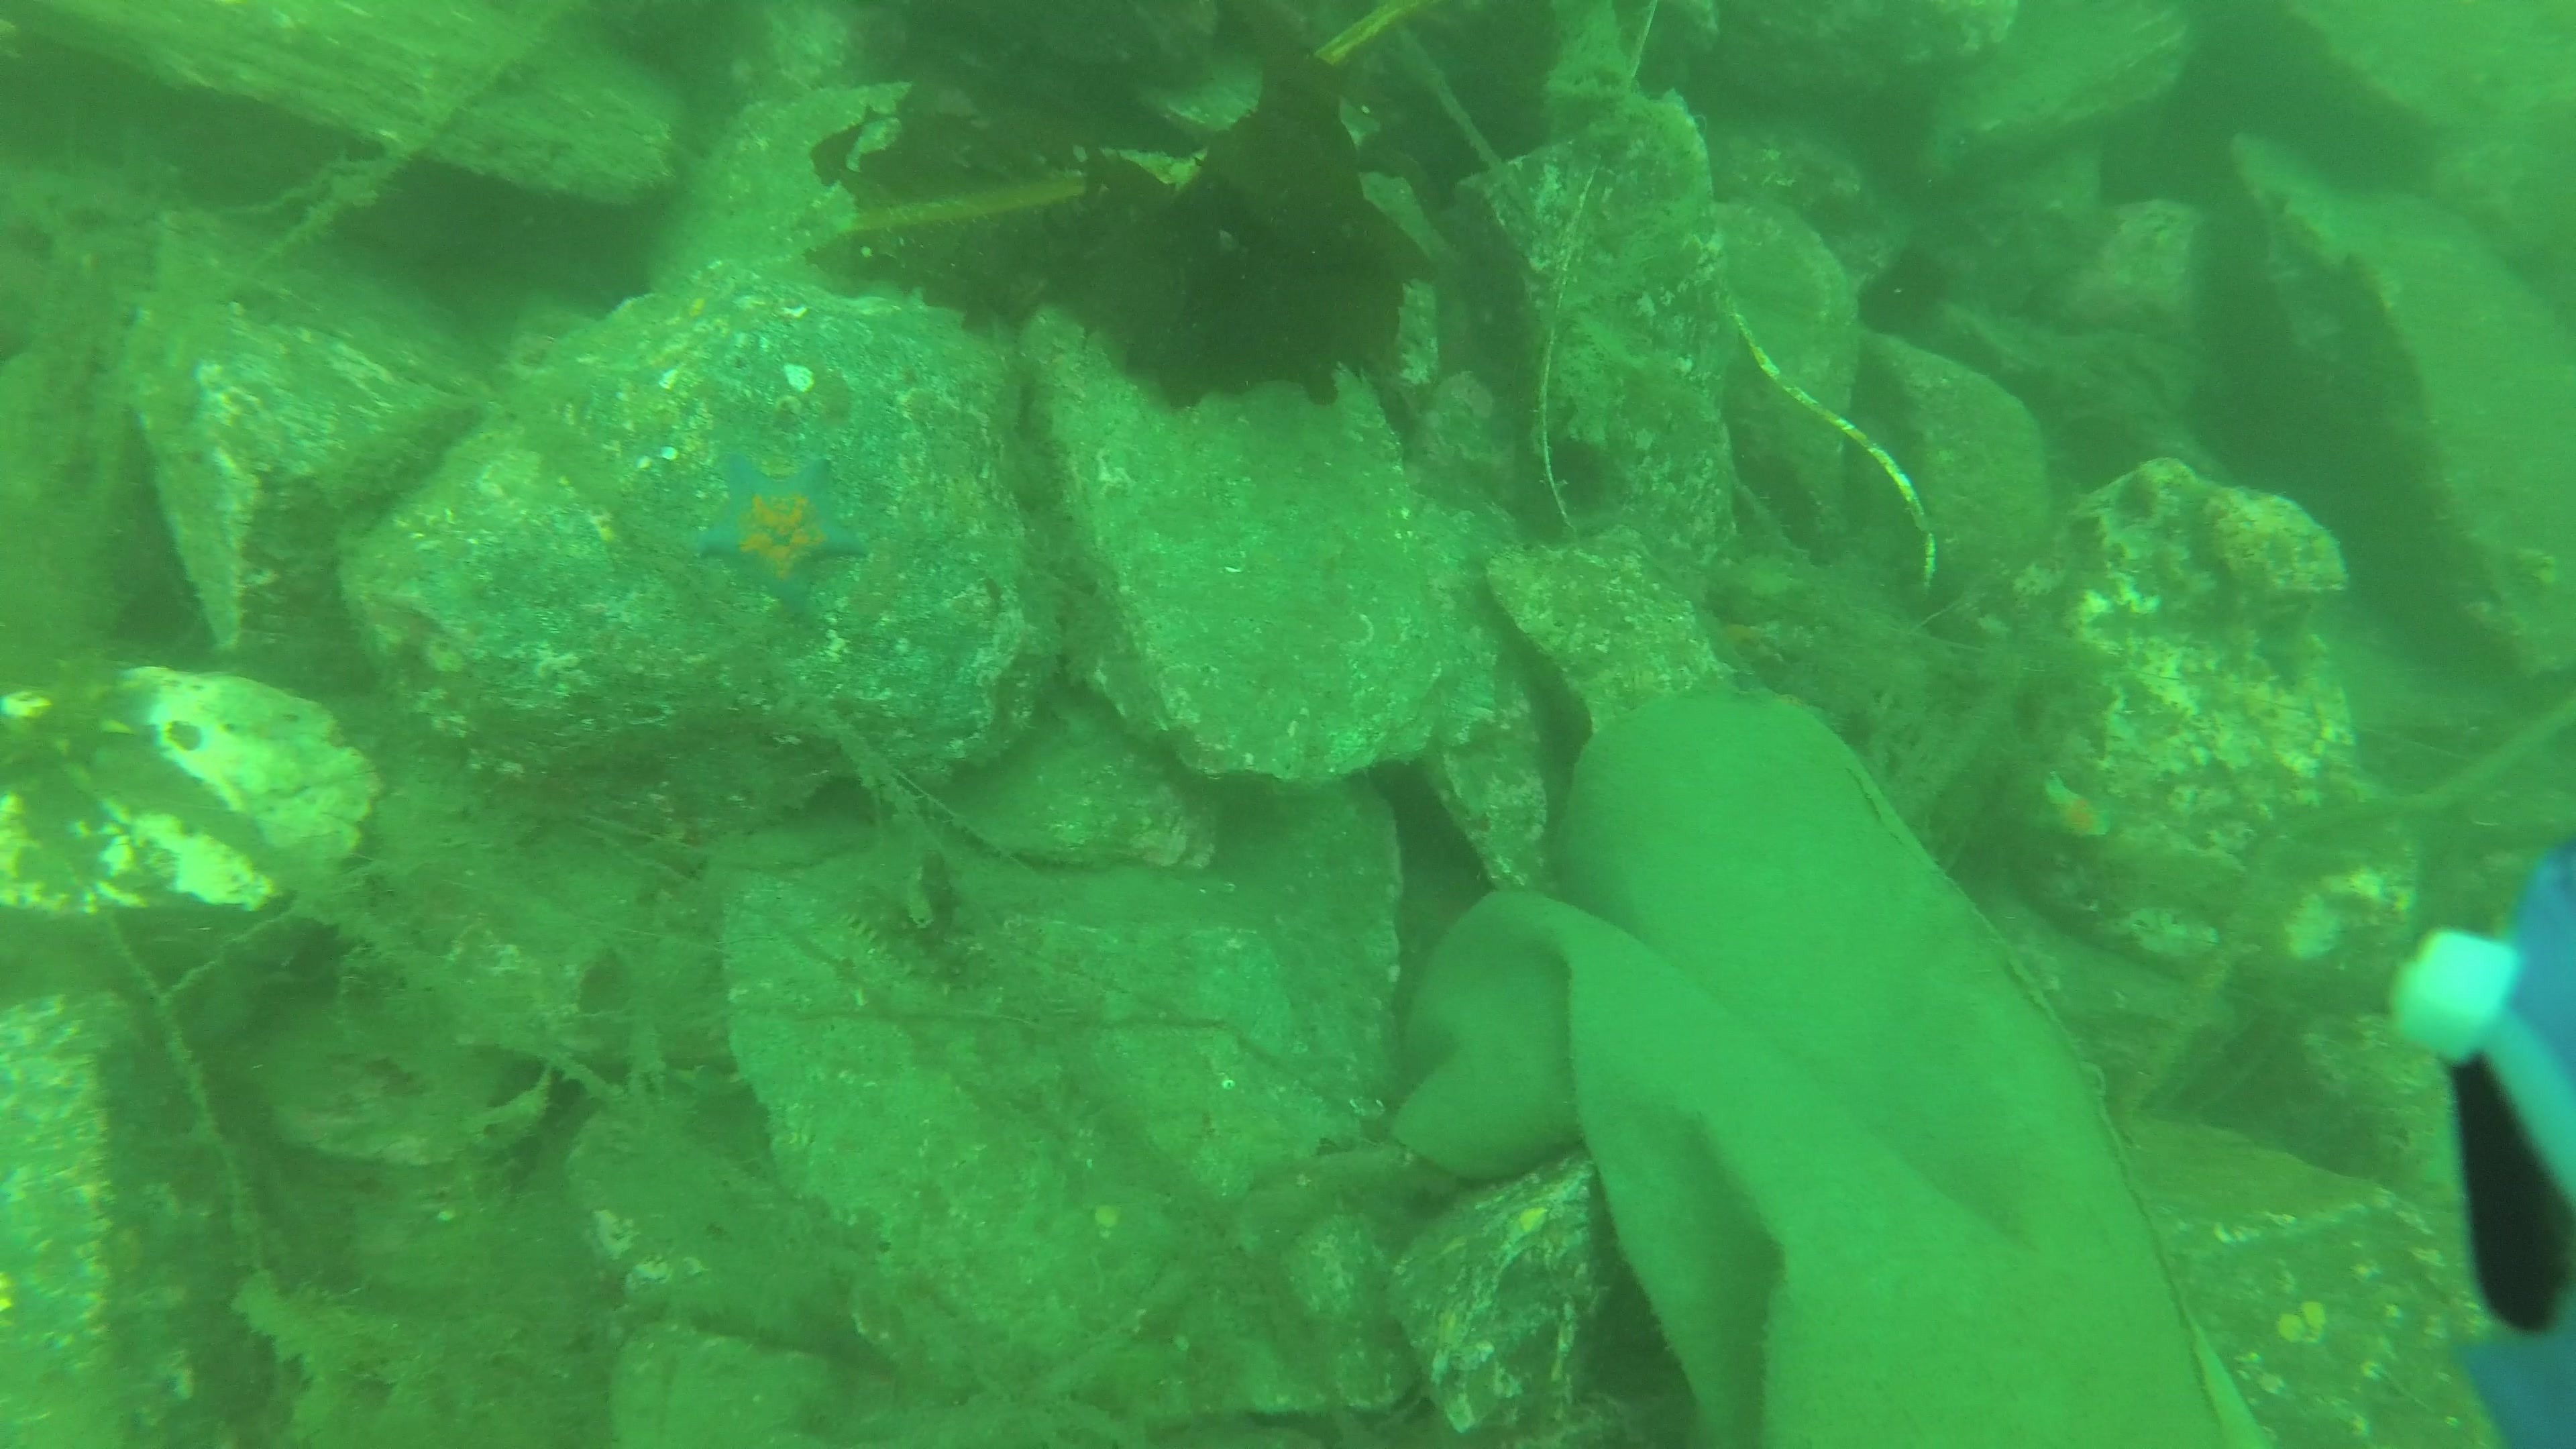holothurian: (809, 904, 924, 1010)
starfish: (685, 453, 874, 610), (2038, 764, 2121, 842)
